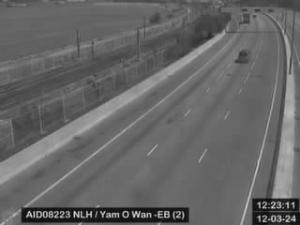truck: (243, 13, 251, 23)
vehicle: (238, 50, 252, 62)
